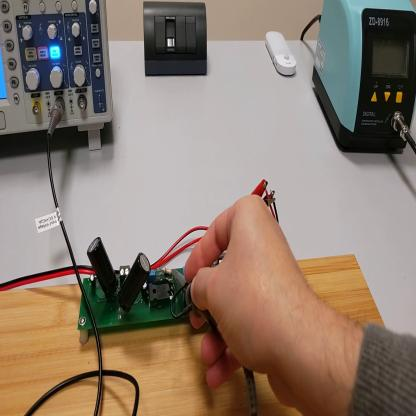hand: (185, 196, 314, 387)
high voltage board: (75, 173, 283, 342)
oscilloscope: (2, 2, 116, 161)
oscilloscope probe tip: (167, 263, 225, 343)
welder station: (312, 2, 416, 155)
working area: (1, 252, 409, 416)
